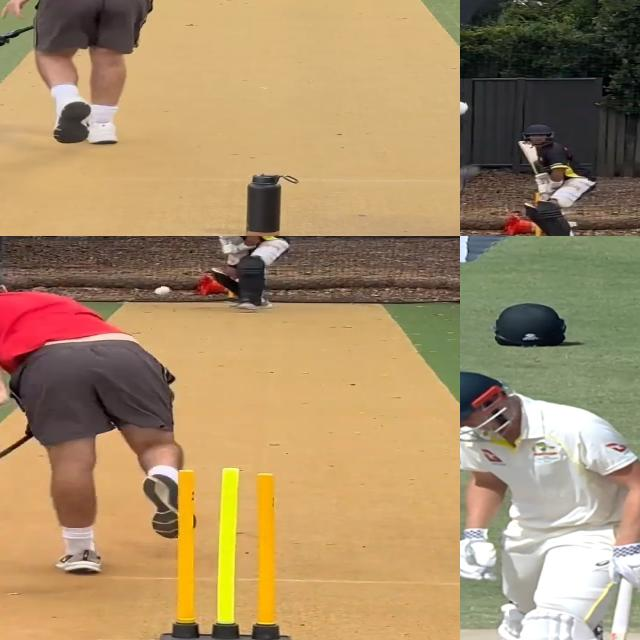Cricket ball: (153, 285, 172, 297), (460, 100, 470, 117)
Stumps: (155, 467, 295, 640)
